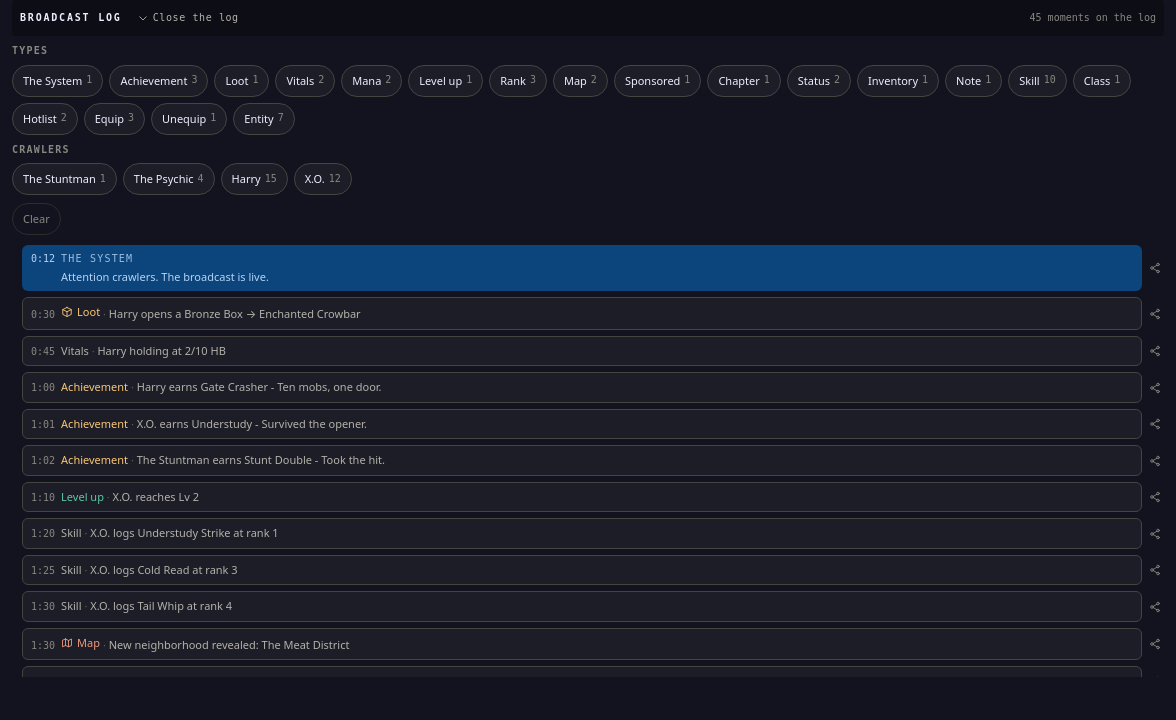
EpisodeLog - filters › filters by type and reports "N of M moments"
Click the button with test id "log-chip-type-achievement" at (159, 80), box [109,64,208,96]
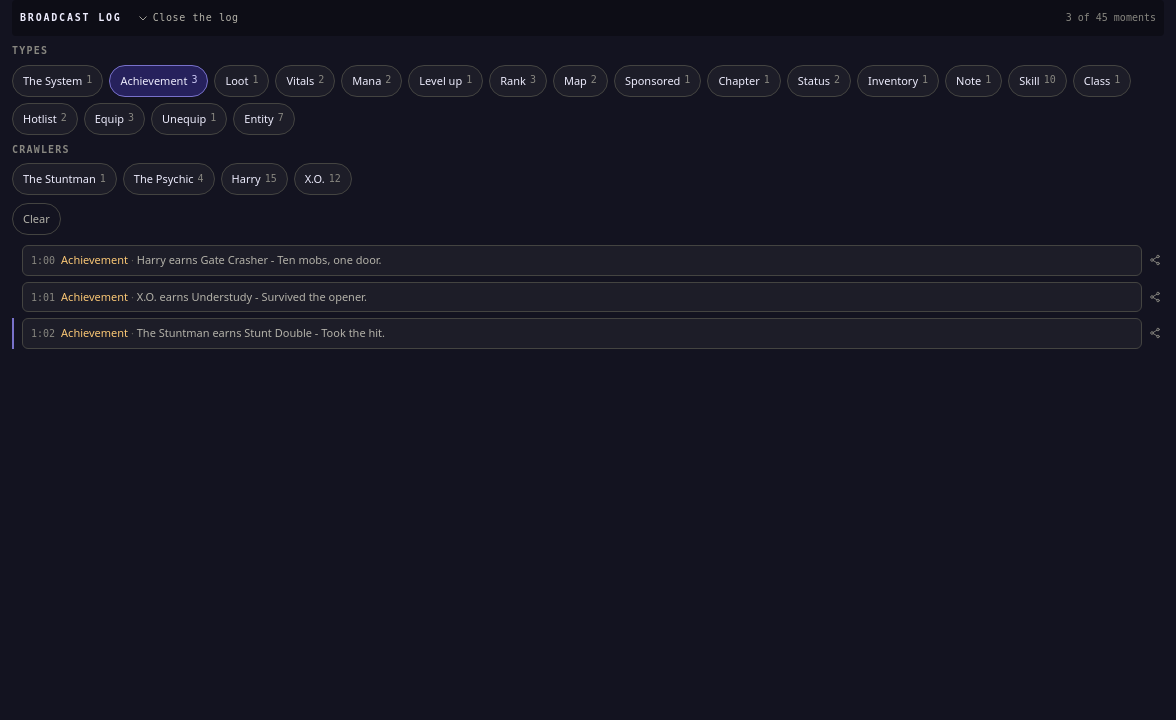
Check: the number of list items with test id "log-row" is 3, box [12,245,1164,276]; [12,282,1164,312]; [12,318,1164,348]
